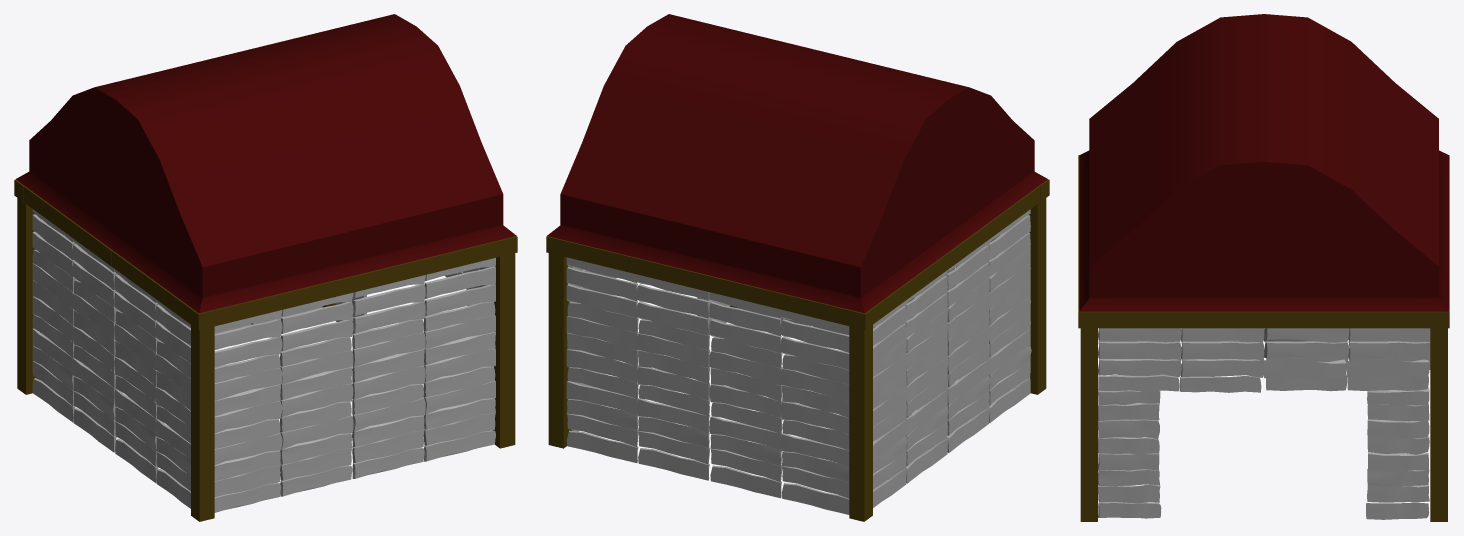
Rendered from Barn_0823.fbx.
3 renders of one model, left to right at view 1: azimuth 30°, elevation 25°; view 2: azimuth 150°, elevation 25°; view 3: azimuth 270°, elevation 25°, orthographic.
Visible parts, largest first — view 1: ROOF_Real1, Plank_T116 (×2), Plank_T107 (×2), Plank_T126 (×2), Plank_T118 (×2), Plank_T120 (×2), Plank_T92 (×2), Plank_T109 (×2), Plank_T130 (×2), Plank_T128 (×2), Plank_T103 (×2), Plank_T112 (×2) (+37 smaller); view 2: ROOF_Real1, Plank_T102 (×2), Plank_T107 (×2), Plank_T116 (×2), Plank_T92 (×2), Plank_T111 (×2), Plank_T120 (×2), Plank_T118 (×2), Plank_T109 (×2), Plank_T96 (×2), Plank_T101 (×2), Plank_T54 (×2) (+41 smaller); view 3: ROOF_Real1, Plank_T135, Plank_T143, Plank_T174, Plank_T92, Plank_T173, Plank_T145, Plank_T54, Plank_T110, Plank_T93, Plank_T172, Plank_T96 (+10 smaller).
Boxes of the visible parts, x1,y1,x2,y2 form: ROOF_Real1: (14, 14, 517, 521); Plank_T116 (×2): (72, 326, 425, 399); Plank_T107 (×2): (114, 357, 353, 417); Plank_T126 (×2): (32, 296, 495, 382); Plank_T118 (×2): (72, 293, 425, 367); Plank_T120 (×2): (72, 261, 425, 333); Plank_T92 (×2): (114, 292, 353, 351); Plank_T109 (×2): (114, 324, 353, 384); Plank_T130 (×2): (32, 231, 495, 316); Plank_T128 (×2): (32, 263, 495, 349); Plank_T103 (×2): (115, 421, 351, 480); Plank_T112 (×2): (73, 391, 424, 462); ROOF_Real1: (546, 14, 1049, 521); Plank_T102 (×2): (710, 408, 989, 498); Plank_T107 (×2): (709, 327, 989, 418); Plank_T116 (×2): (637, 358, 947, 404); Plank_T92 (×2): (709, 263, 989, 353); Plank_T111 (×2): (638, 439, 947, 483); Plank_T120 (×2): (637, 293, 947, 337); Plank_T118 (×2): (637, 324, 947, 369); Plank_T109 (×2): (709, 294, 989, 385); Plank_T96 (×2): (780, 297, 1030, 434); Plank_T101 (×2): (781, 378, 1030, 514); Plank_T54 (×2): (780, 232, 1030, 369); ROOF_Real1: (1078, 14, 1449, 521); Plank_T135: (1263, 359, 1429, 519); Plank_T143: (1181, 341, 1264, 360); Plank_T174: (1348, 341, 1430, 360); Plank_T92: (1181, 358, 1264, 377); Plank_T173: (1264, 341, 1348, 359); Plank_T145: (1098, 341, 1181, 359); Plank_T54: (1098, 358, 1181, 377); Plank_T110: (1180, 376, 1261, 392); Plank_T93: (1098, 374, 1179, 391); Plank_T172: (1264, 328, 1348, 342); Plank_T96: (1098, 419, 1159, 439).
Size of the model in its own units: 21.23 by 22.54 by 21.23.
